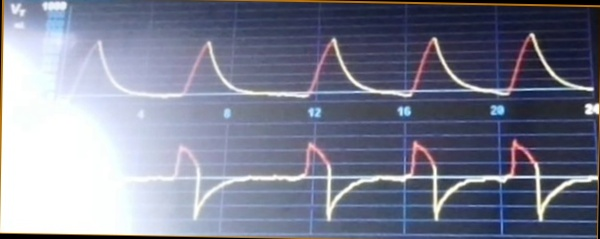Normal Flow: (125, 129, 595, 230)
Normal Volume: (67, 20, 594, 101)
